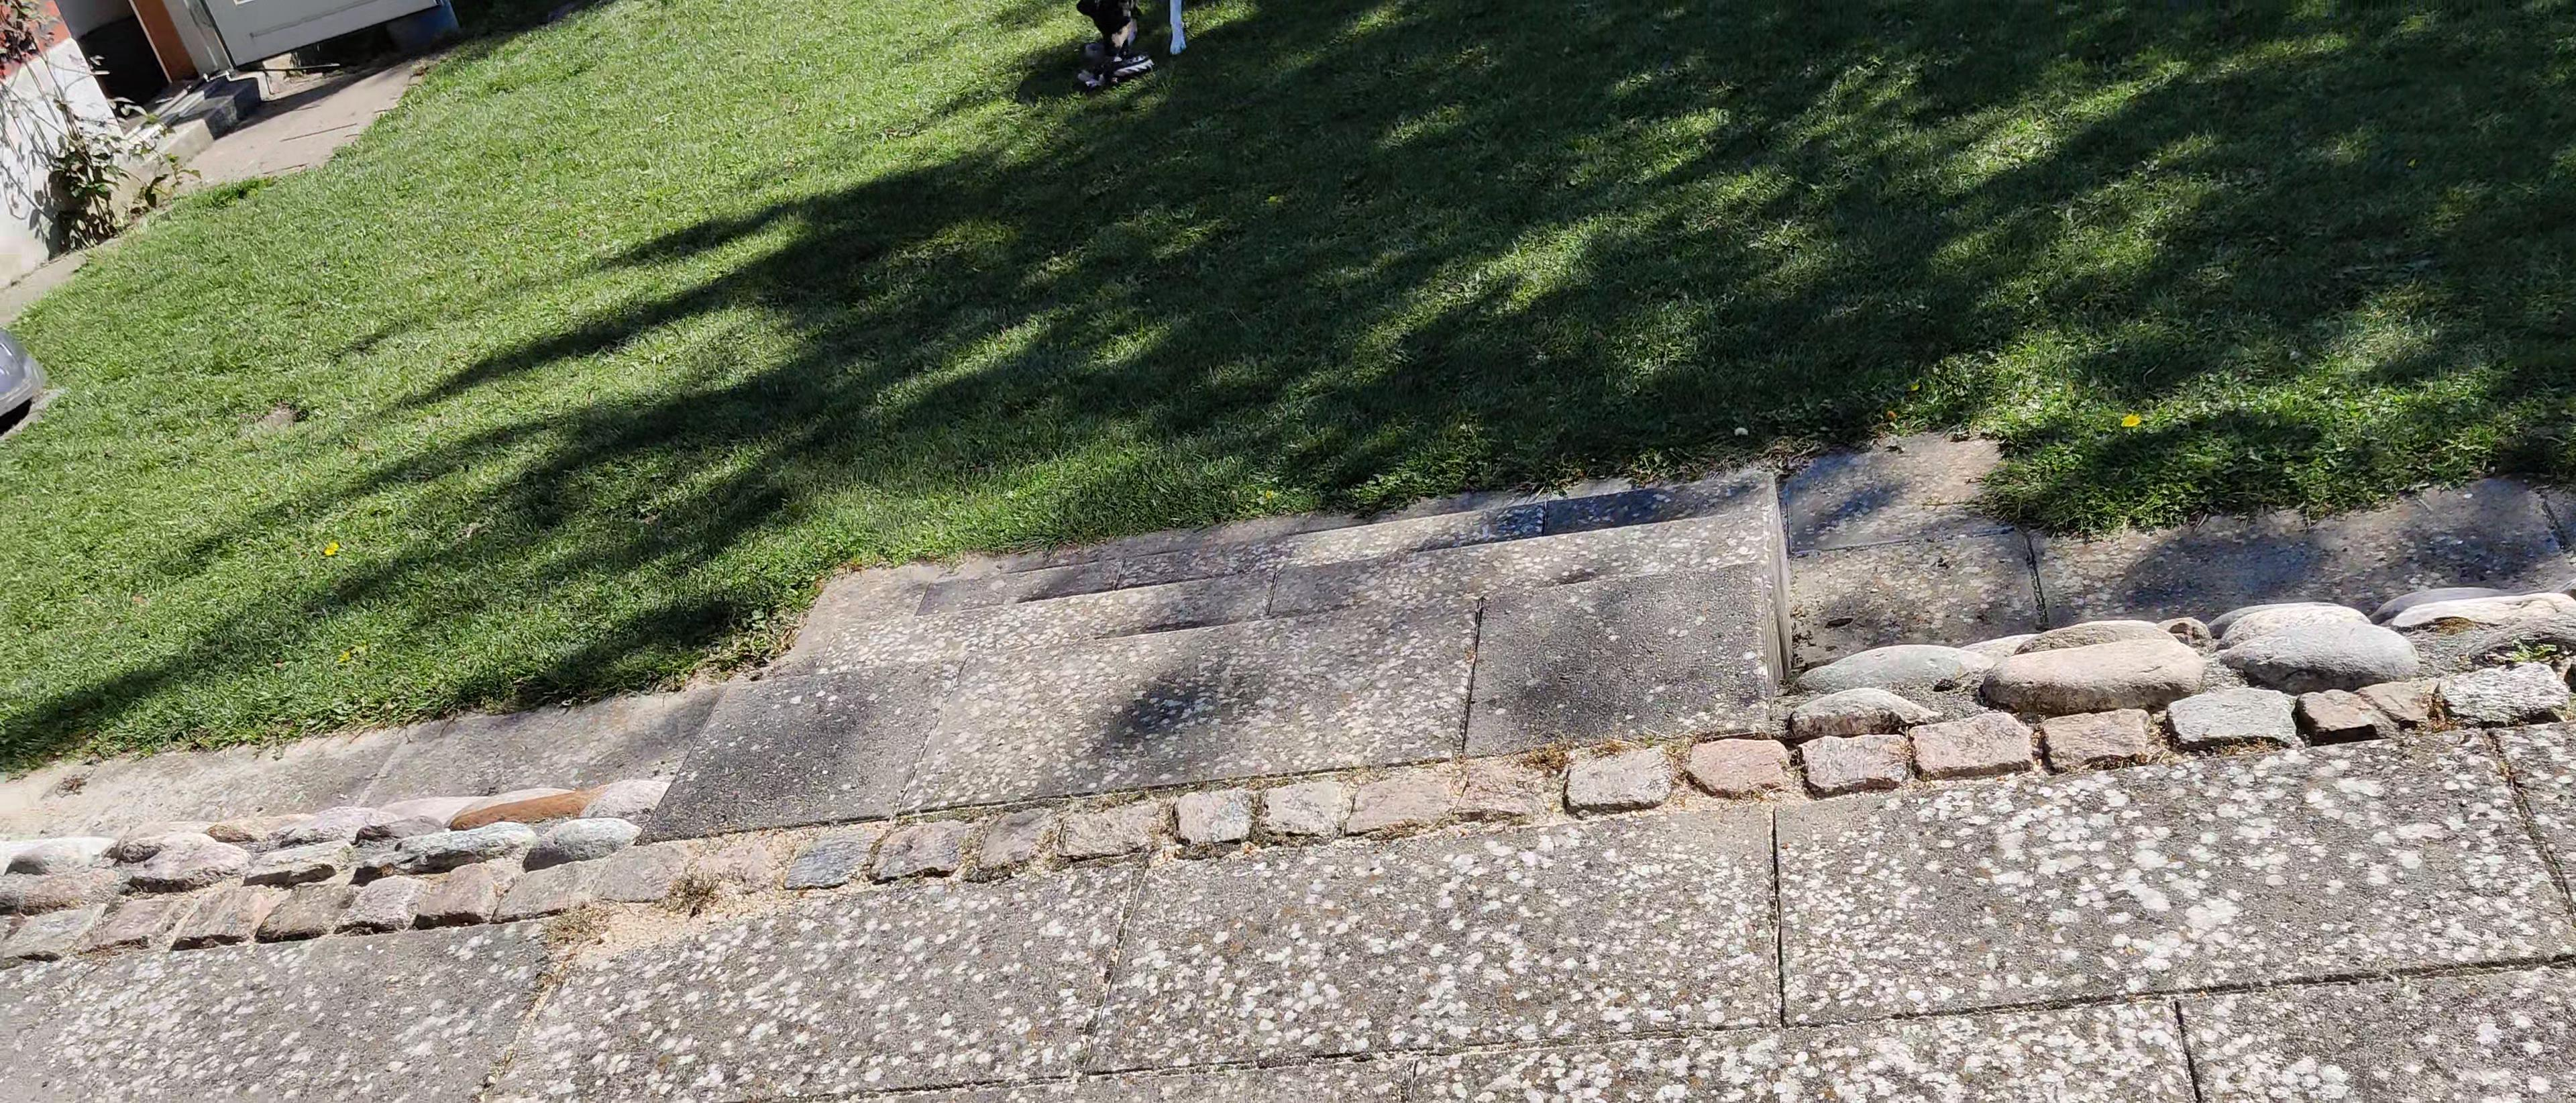Dog: (1065, 0, 1204, 74)
